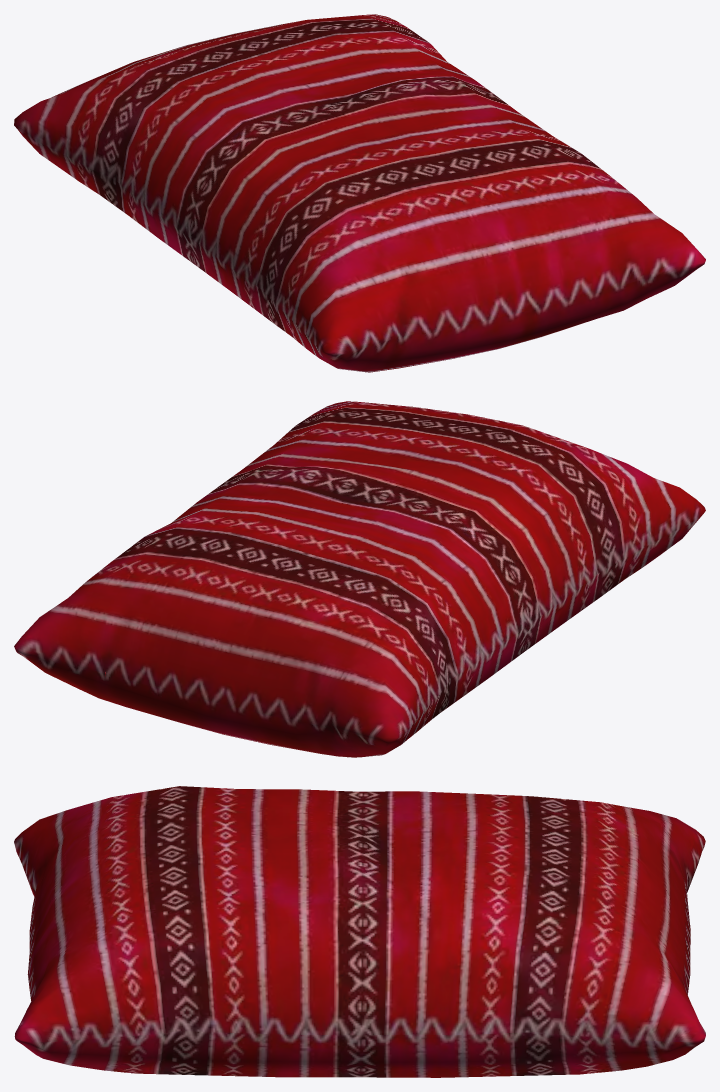
3 renders of one model, top to bottom at view 1: azimuth 30°, elevation 25°; view 2: azimuth 150°, elevation 25°; view 3: azimuth 270°, elevation 25°, orthographic. The views are drawn at different scales.
Parts seen in each view (by area): view 1: SM_Moon_Garou_Seat_01v2_LOD0; view 2: SM_Moon_Garou_Seat_01v2_LOD0; view 3: SM_Moon_Garou_Seat_01v2_LOD0.
Boxes of the visible parts, <box> form: SM_Moon_Garou_Seat_01v2_LOD0: <box>14,14,705,372</box>; SM_Moon_Garou_Seat_01v2_LOD0: <box>14,401,705,757</box>; SM_Moon_Garou_Seat_01v2_LOD0: <box>14,786,705,1077</box>.
Bounding box in the file's own units: 0.9992 × 0.3904 × 1.44.
Materials: 1 (1 with a texture image).
